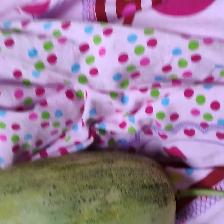gua: (8, 156, 182, 220)
